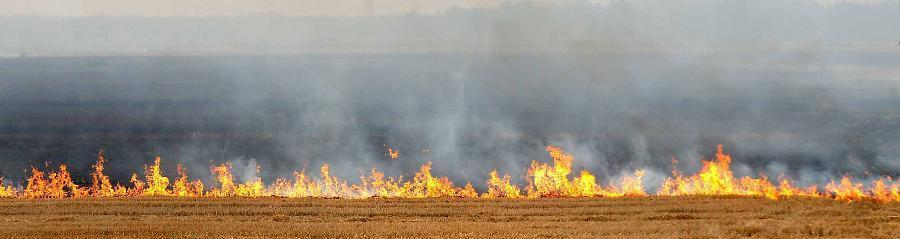fire: (6, 152, 891, 199)
